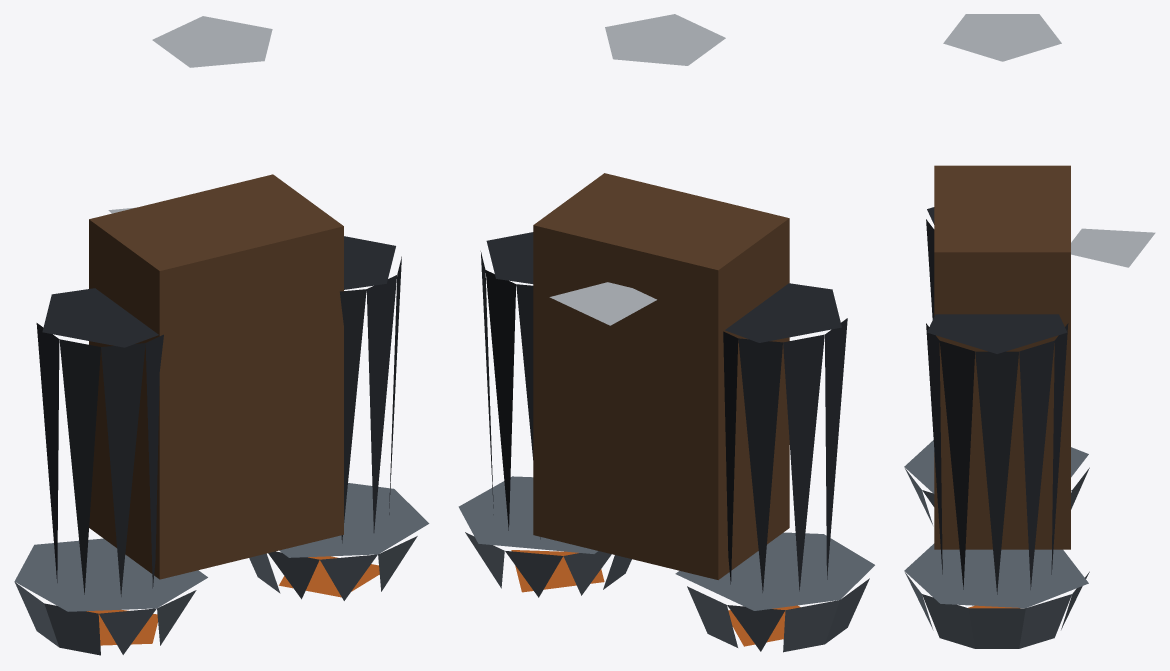
The model's file is jetpack-z6.lod.glb.
3 renders of one model, left to right at view 1: azimuth 30°, elevation 25°; view 2: azimuth 150°, elevation 25°; view 3: azimuth 270°, elevation 25°, orthographic. The views are drawn at different scales.
Visible parts, largest first — view 1: m; view 2: m; view 3: m.
Part boxes in pixels (box(x1,y1,x2,y2)): m: box(14, 16, 429, 655); m: box(458, 14, 874, 652); m: box(904, 14, 1155, 648).
Size of the model in its own units: 0.113 by 0.1608 by 0.0672.
